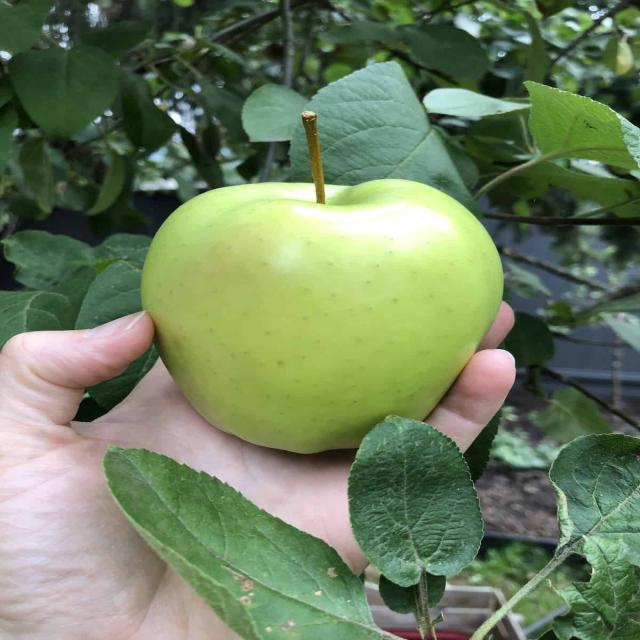Green Apple: (139, 173, 507, 455)
Red Apple: (1, 325, 169, 640)
